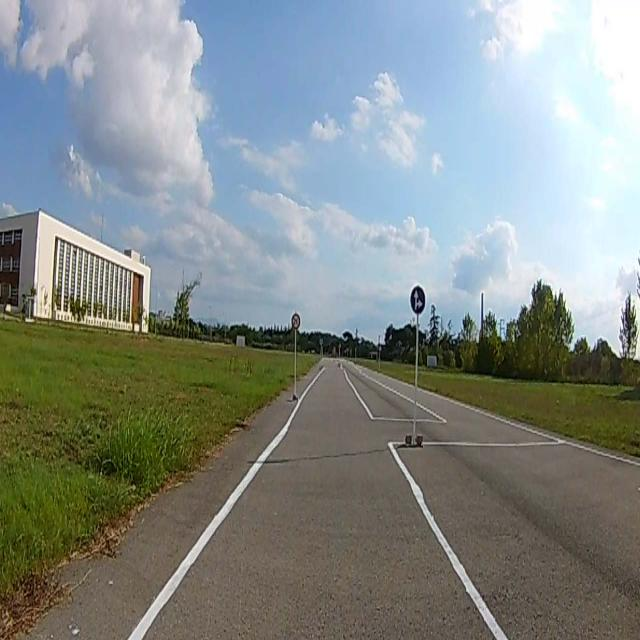ilerisag: (411, 287, 425, 313)
